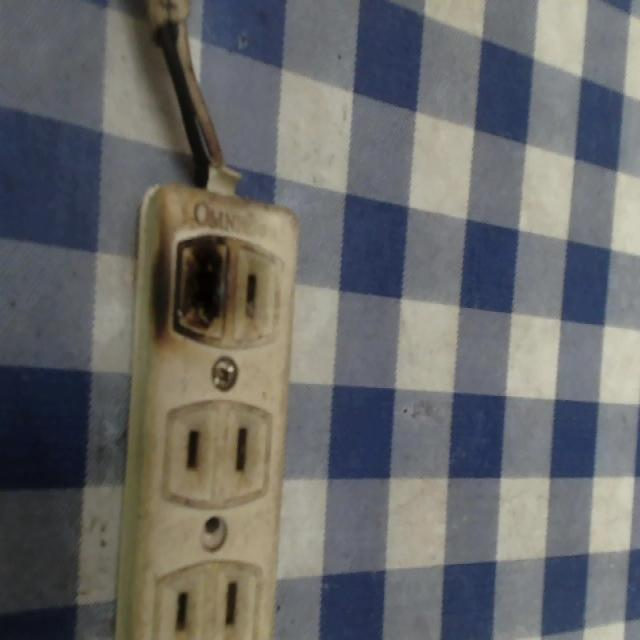-: (168, 235, 241, 349)
